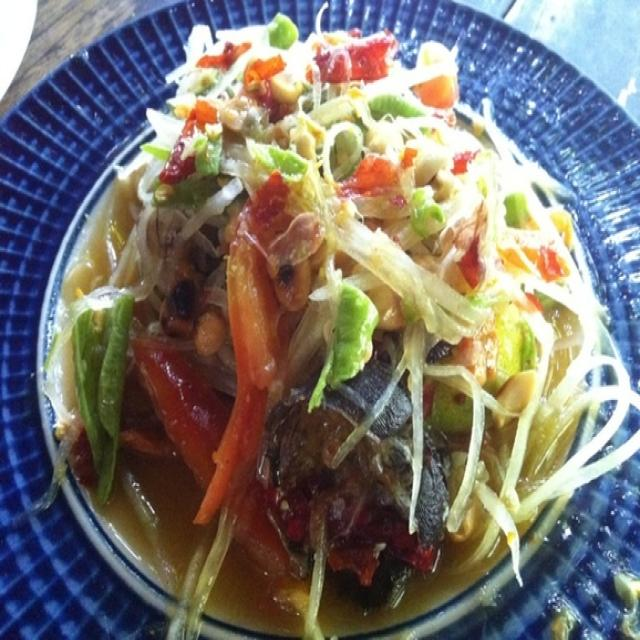蔬菜料理: (41, 26, 601, 584)
